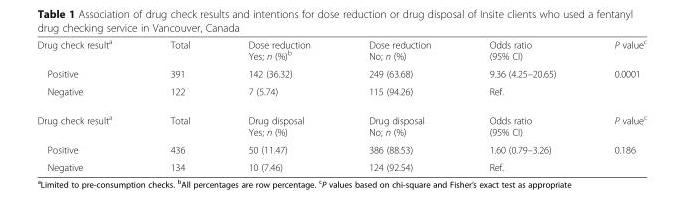table: (36, 37, 646, 172)
table column: (459, 37, 584, 172), (218, 37, 339, 172), (339, 37, 459, 172), (36, 37, 140, 172), (140, 37, 218, 172), (584, 37, 646, 172)
table row: (36, 104, 646, 140), (36, 37, 646, 64), (36, 82, 646, 104), (36, 64, 646, 82), (36, 140, 646, 158), (36, 158, 646, 172)
